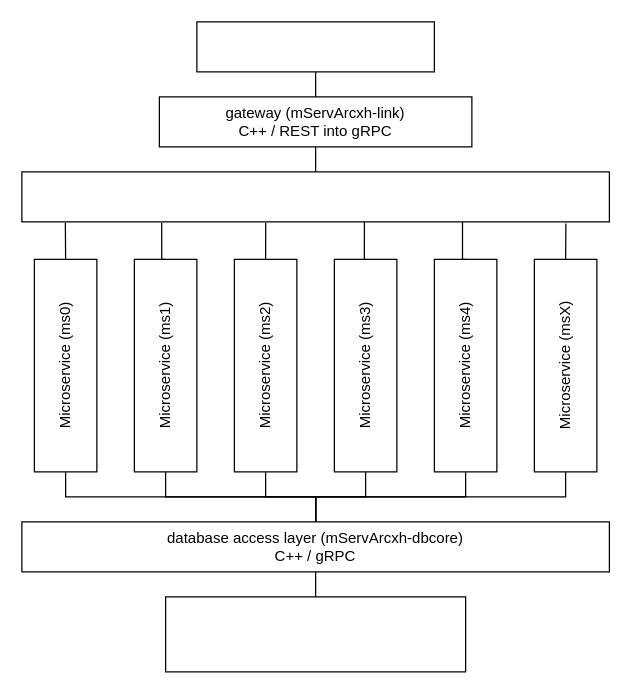
The diagram is 631 pixels wide and 694 high, and some of its shapes have lost their labels. Each missing label, with the box of its shape:
database (mServArcxh-dbcore) PostgreSQL: (164, 596, 466, 672)
frontend (mServArcxh-frontend) Next.js + TypeScript: (196, 21, 434, 72)
service linker (mServArcxh-link) C++ / gRPC: (21, 171, 609, 222)
